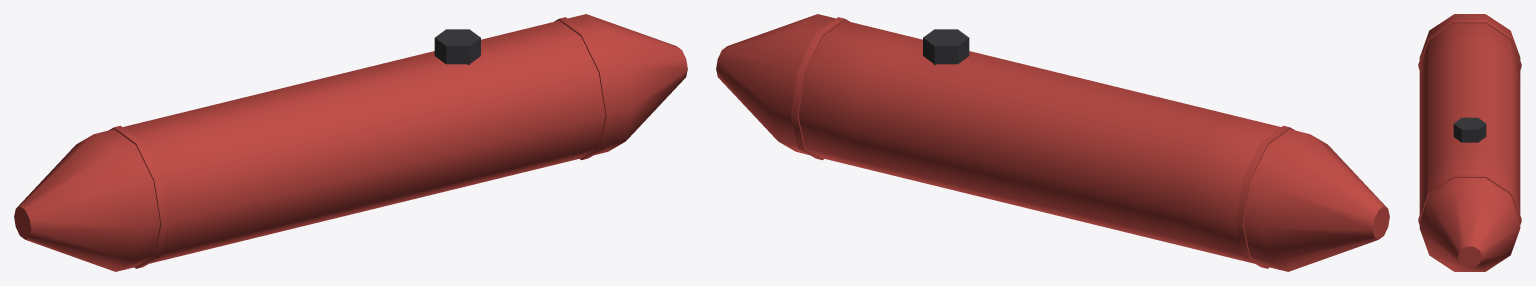
Rendered from fuel_cell_lod1.glb.
3 views of the same model, side by side, from view 1: azimuth 30°, elevation 25°; view 2: azimuth 150°, elevation 25°; view 3: azimuth 270°, elevation 25° (orthographic). The views are drawn at different scales.
Visible parts, largest first — view 1: fuel_cell_lod1; view 2: fuel_cell_lod1; view 3: fuel_cell_lod1.
Part boxes in pixels (x1,y1,x2,y2): fuel_cell_lod1: (14,14,687,271); fuel_cell_lod1: (716,14,1389,271); fuel_cell_lod1: (1418,14,1521,271).
Bounding box in the file's own units: 0.59 × 0.1217 × 0.113.
